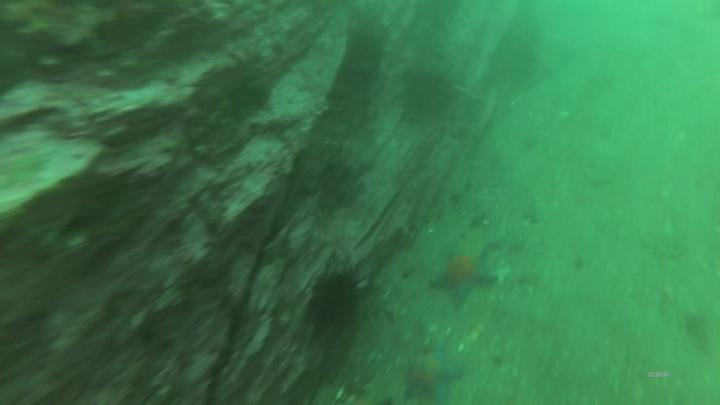echinus: (406, 71, 456, 123), (319, 275, 364, 330)
starfish: (433, 253, 494, 307), (408, 350, 462, 405)
